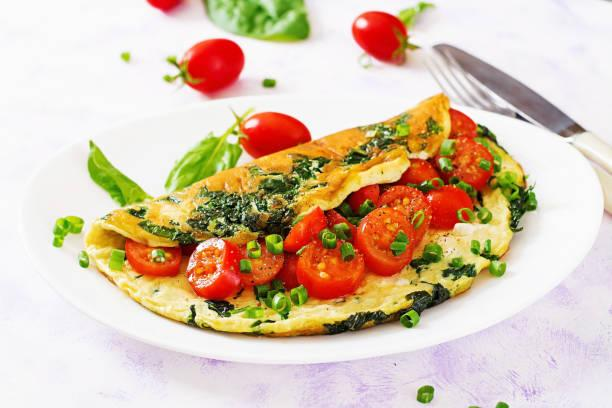omelette: (78, 125, 547, 339)
